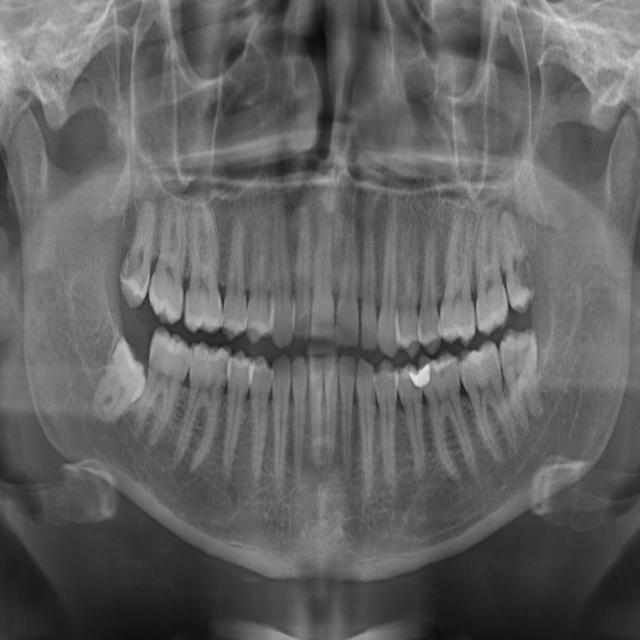3M ESPE Implant: (115, 196, 161, 310)
AGS Medikal Implant: (360, 218, 379, 352)
AMerOss Implant: (377, 194, 399, 357)
Amalgam filling: (395, 227, 424, 358)
Anthogyr Implant: (416, 223, 443, 355)
Bicon Implant: (457, 228, 466, 269)
BioHorizons Implant: (473, 205, 509, 337)
BioLife Implant: (499, 208, 538, 315)
Biomet 3i Implant: (497, 325, 548, 436)
Blue Sky Bio Implant: (454, 339, 524, 469)
Camlog Implant: (416, 347, 484, 486)
Caries: (171, 212, 177, 236)
Composite filling: (395, 363, 428, 478)
Cowellmedi Implant: (374, 358, 403, 487)
Crown: (355, 357, 379, 503)
DENTSPLY Implant: (336, 355, 355, 481)
Dentatus Implant: (324, 354, 339, 469)
Dentis Implant: (308, 354, 326, 470)
Dentium Implant: (292, 356, 307, 484)
Euroteknika Implant: (271, 353, 290, 498)
Filling: (247, 355, 272, 480)
Frontier Implant: (210, 349, 255, 488)
Hiossen Implant: (199, 210, 206, 254)
Implant: (129, 325, 196, 452)
Implant Direct: (171, 339, 234, 476)
Keystone Dental Implant: (94, 404, 99, 405)
MIS Implant: (220, 208, 251, 342)
Mandible: (247, 211, 269, 346)
Maxilla: (270, 190, 294, 348)
Megagen Implant: (294, 207, 312, 341)
Neodent Implant: (310, 191, 339, 343)
Neoss Implant: (335, 217, 359, 349)
